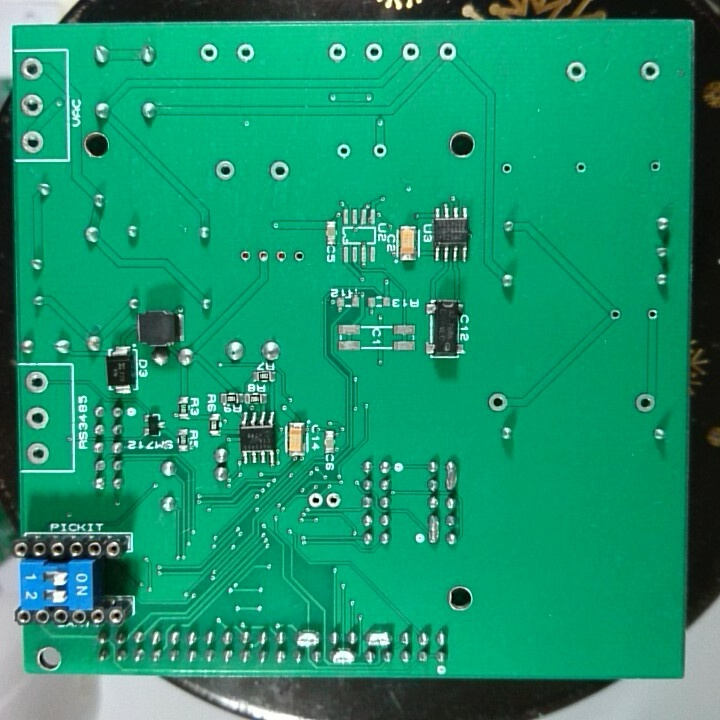F: (24, 403, 50, 434), (23, 440, 53, 466), (24, 368, 50, 397), (19, 56, 45, 84), (20, 127, 45, 156), (18, 92, 45, 118), (632, 390, 657, 414), (564, 59, 588, 84), (486, 390, 511, 413), (638, 60, 662, 83), (325, 40, 348, 63), (214, 158, 237, 181), (267, 160, 291, 182), (234, 42, 257, 64), (197, 40, 219, 63), (399, 40, 420, 64), (437, 41, 458, 63), (363, 42, 385, 63), (305, 490, 324, 512), (255, 246, 273, 268), (335, 140, 353, 162), (325, 489, 342, 512), (371, 140, 388, 161), (274, 246, 288, 269), (237, 247, 253, 267), (646, 158, 664, 175), (607, 306, 624, 322), (291, 248, 306, 266), (645, 307, 661, 323), (574, 159, 588, 176), (499, 160, 514, 175)
P: (442, 457, 461, 492), (294, 626, 322, 648), (328, 647, 358, 666), (364, 628, 391, 649), (425, 512, 441, 547)
